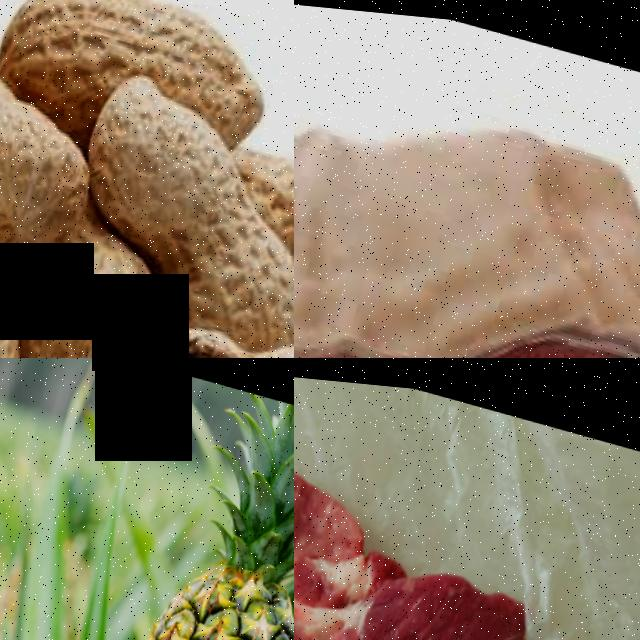peanuts: (73, 68, 279, 263), (0, 0, 294, 115), (17, 227, 186, 358), (0, 34, 110, 208)
pineapple: (41, 466, 294, 640)
pork belly: (294, 27, 640, 358), (294, 429, 550, 640)
